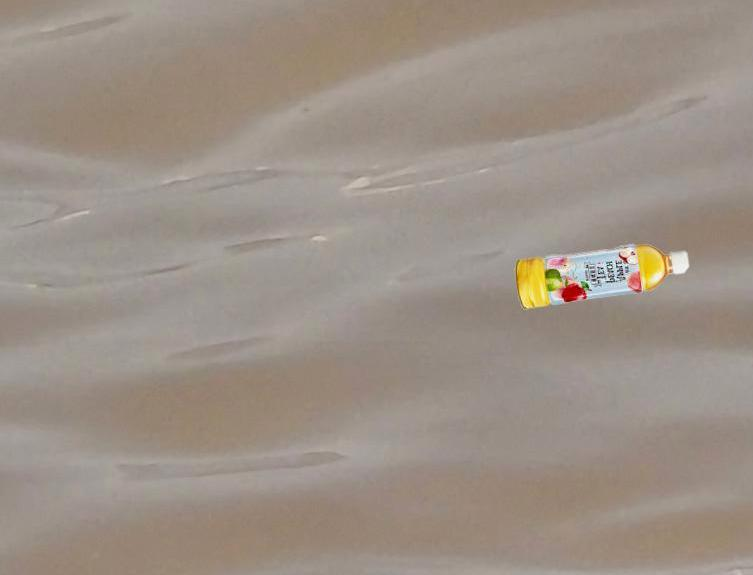Plastic: (514, 238, 690, 312)
